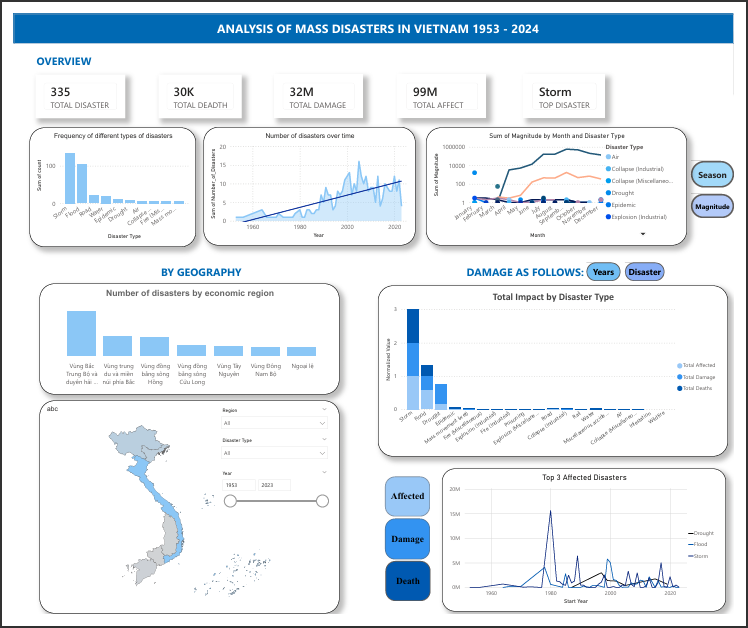

This screenshot's page, from the dashboard's own definition file:
{"tool":"powerbi","page":{"name":"Page 2","canvas":[1440,1200],"ordinal":1},"visuals":[{"type":"actionButton","box":[935,492.5,333,47],"z":0,"group":"g3"},{"type":"clusteredColumnChart","title":"Số lượng thảm hoạ theo vùng kinh tế","fields":{"Category":["7vktvn.economic_region"],"Y":["7vktvn.Count Disasters"]},"box":[51.2,538.8,600,222.5],"z":0},{"type":"actionButton","title":"Death","box":[743.5,1093.6,90,80],"z":0,"group":"g2"},{"type":"textbox","box":[288.6,497.1,161.4,45.7],"z":1000},{"type":"actionButton","title":"Button_Year","box":[1100.5,497.4,68.5,36.9],"z":1000,"group":"g3"},{"type":"lineChart","title":"Top 3 Affected Disasters","fields":{"Category":["year_type_df.Start Year"],"Y":["Sum(year_type_df.Total_Affected)"],"Series":["year_type_df.Disaster Type"]},"box":[856.6,908.4,567.3,286.3],"z":1000,"group":"g1"},{"type":"actionButton","title":"Damage","box":[742.1,1009.3,90,81.4],"z":1000,"group":"g2"},{"type":"actionButton","title":"Button_Year","box":[165.5,4.9,68.5,36.9],"z":2000},{"type":"actionButton","title":"Button_Disaster","box":[1177,497.4,79,37],"z":2000,"group":"g3"},{"type":"actionButton","title":"Affected","box":[742.5,925,90,80],"z":2000,"group":"g2"},{"type":"shape","box":[0,0,1440,60],"z":5000},{"type":"textbox","box":[385,7.5,571.2,43.8],"z":6000},{"type":"textbox","box":[40,75,141.2,46.2],"z":7000},{"type":"cardVisual","fields":{"Data":["7vktvn.TOTAL DEADTH"]},"box":[288.8,121.2,167.5,87.5],"z":8000},{"type":"cardVisual","fields":{"Data":["7vktvn.TOTAL DAMAGE"]},"box":[521.2,121.2,177.5,87.5],"z":9000},{"type":"cardVisual","fields":{"Data":["7vktvn.TOTAL AFFECT"]},"box":[767.5,121.2,177.5,87.5],"z":10000},{"type":"cardVisual","fields":{"Data":["final_data.TOTAL DISASTER"]},"box":[42.5,121.2,180,87.5],"z":11000},{"type":"lineChart","title":"số lượng thảm hoạ theo thời gian","fields":{"Category":["year_counts.Year"],"Y":["Sum(year_counts.Number_of_Disasters)"]},"box":[378.8,226.2,423.8,236.2],"z":12000},{"type":"actionButton","box":[1317.1,268.6,122.9,50],"z":12500},{"type":"actionButton","box":[1317.1,318.6,122.9,48.6],"z":13000},{"type":"lineChart","fields":{"Category":["Magitude_new.day_to_analyse.Variation.Date Hierarchy.Year","Magitude_new.day_to_analyse.Variation.Date Hierarchy.Quarter","Magitude_new.day_to_analyse.Variation.Date Hierarchy.Month"],"Y":["Sum(Magitude_new.Magnitude)"],"Series":["Magitude_new.Disaster Type"]},"box":[824.3,227.1,521.4,235.7],"z":14000},{"type":"shapeMap","title":"abc","fields":{"Category":["7vktvn.economic_region"],"Value":["CountNonNull(7vktvn.economic_region)"]},"box":[51.4,772.9,600,425.7],"z":16000},{"type":"clusteredColumnChart","title":"Tần suất các loại thảm hoạ","fields":{"Category":["top_10_disaster.Disaster Type"],"Y":["Sum(top_10_disaster.count)"]},"box":[31.4,227.1,332.9,238.6],"z":17000},{"type":"group","id":"g1","title":"By Disaster","box":[848.3,901.7,580,296.7],"z":18000},{"type":"columnChart","title":"Total Impact by Disaster Type","fields":{"Category":["combined_norm.Decade"],"Y":["Sum(combined_norm.Total Affected)","Sum(combined_norm.Total Damage, Adjusted ('000 US$))","Sum(combined_norm.Total Deaths)"]},"box":[727.5,542.5,700,342.5],"z":20000},{"type":"group","id":"g2","title":"Selection Total by Disaster","box":[742.1,925,91.4,248.6],"z":22000},{"type":"group","id":"g3","title":"Selection ImpactBy","box":[935,492.5,332.5,46.2],"z":24000},{"type":"cardVisual","fields":{"Data":["7vktvn.TOP DISASTER"]},"box":[1020,121.2,162.5,87.5],"z":25000},{"type":"slicer","fields":{"Values":["7vktvn.economic_region"]},"box":[404,782,234,60],"z":25001},{"type":"actionButton","box":[0,0,100,40],"z":25002},{"type":"slicer","fields":{"Values":["7vktvn.Disaster Type"]},"box":[404,842,234,60],"z":25004},{"type":"slicer","fields":{"Values":["7vktvn.Start Year"]},"box":[404,908,234,90],"z":25005}]}

Visuals, with their boxes in screenshot pixels (x1, y1, x2, y2), scaled from the page's 1440x1200 canvas onto the 748x628 screenshot:
actionButton: [x1=486, y1=258, x2=659, y2=282]
"Số lượng thảm hoạ theo vùng kinh tế" clusteredColumnChart: [x1=27, y1=282, x2=338, y2=398]
"Death" actionButton: [x1=386, y1=572, x2=433, y2=614]
textbox: [x1=150, y1=260, x2=234, y2=284]
"Button_Year" actionButton: [x1=572, y1=260, x2=607, y2=280]
"Top 3 Affected Disasters" lineChart: [x1=445, y1=475, x2=740, y2=625]
"Damage" actionButton: [x1=385, y1=528, x2=432, y2=571]
"Button_Year" actionButton: [x1=86, y1=3, x2=122, y2=22]
"Button_Disaster" actionButton: [x1=611, y1=260, x2=652, y2=280]
"Affected" actionButton: [x1=386, y1=484, x2=432, y2=526]
shape: [x1=0, y1=0, x2=747, y2=31]
textbox: [x1=200, y1=4, x2=497, y2=27]
textbox: [x1=21, y1=39, x2=94, y2=63]
cardVisual - 7vktvn.TOTAL DEADTH: [x1=150, y1=63, x2=237, y2=109]
cardVisual - 7vktvn.TOTAL DAMAGE: [x1=271, y1=63, x2=363, y2=109]
cardVisual - 7vktvn.TOTAL AFFECT: [x1=399, y1=63, x2=491, y2=109]
cardVisual - final_data.TOTAL DISASTER: [x1=22, y1=63, x2=116, y2=109]
"số lượng thảm hoạ theo thời gian" lineChart: [x1=197, y1=118, x2=417, y2=242]
actionButton: [x1=684, y1=141, x2=747, y2=167]
actionButton: [x1=684, y1=167, x2=747, y2=192]
lineChart - Magitude_new.day_to_analyse.Variation.Date Hierarchy.Year x Magitude_new.day_to_analyse.Variation.Date Hierarchy.Quarter: [x1=428, y1=119, x2=699, y2=242]
"abc" shapeMap: [x1=27, y1=404, x2=338, y2=627]
"Tần suất các loại thảm hoạ" clusteredColumnChart: [x1=16, y1=119, x2=189, y2=244]
"By Disaster" group: [x1=441, y1=472, x2=742, y2=627]
"Total Impact by Disaster Type" columnChart: [x1=378, y1=284, x2=742, y2=463]
"Selection Total by Disaster" group: [x1=385, y1=484, x2=433, y2=614]
"Selection ImpactBy" group: [x1=486, y1=258, x2=658, y2=282]
cardVisual - 7vktvn.TOP DISASTER: [x1=530, y1=63, x2=614, y2=109]
slicer - 7vktvn.economic_region: [x1=210, y1=409, x2=331, y2=441]
actionButton: [x1=0, y1=0, x2=52, y2=21]
slicer - 7vktvn.Disaster Type: [x1=210, y1=441, x2=331, y2=472]
slicer - 7vktvn.Start Year: [x1=210, y1=475, x2=331, y2=522]
